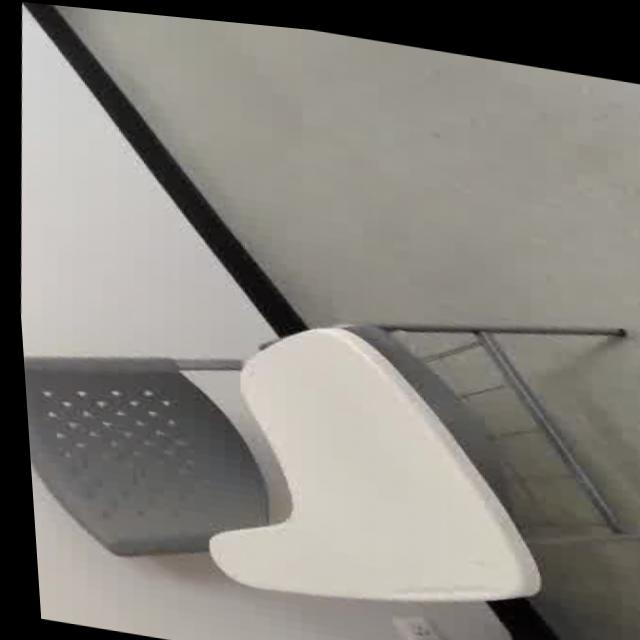chair: (11, 202, 640, 640)
